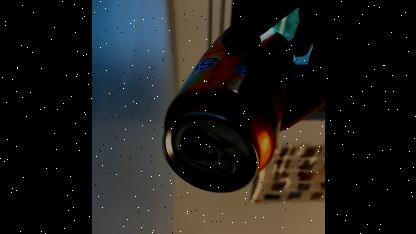Can: (153, 22, 297, 196)
